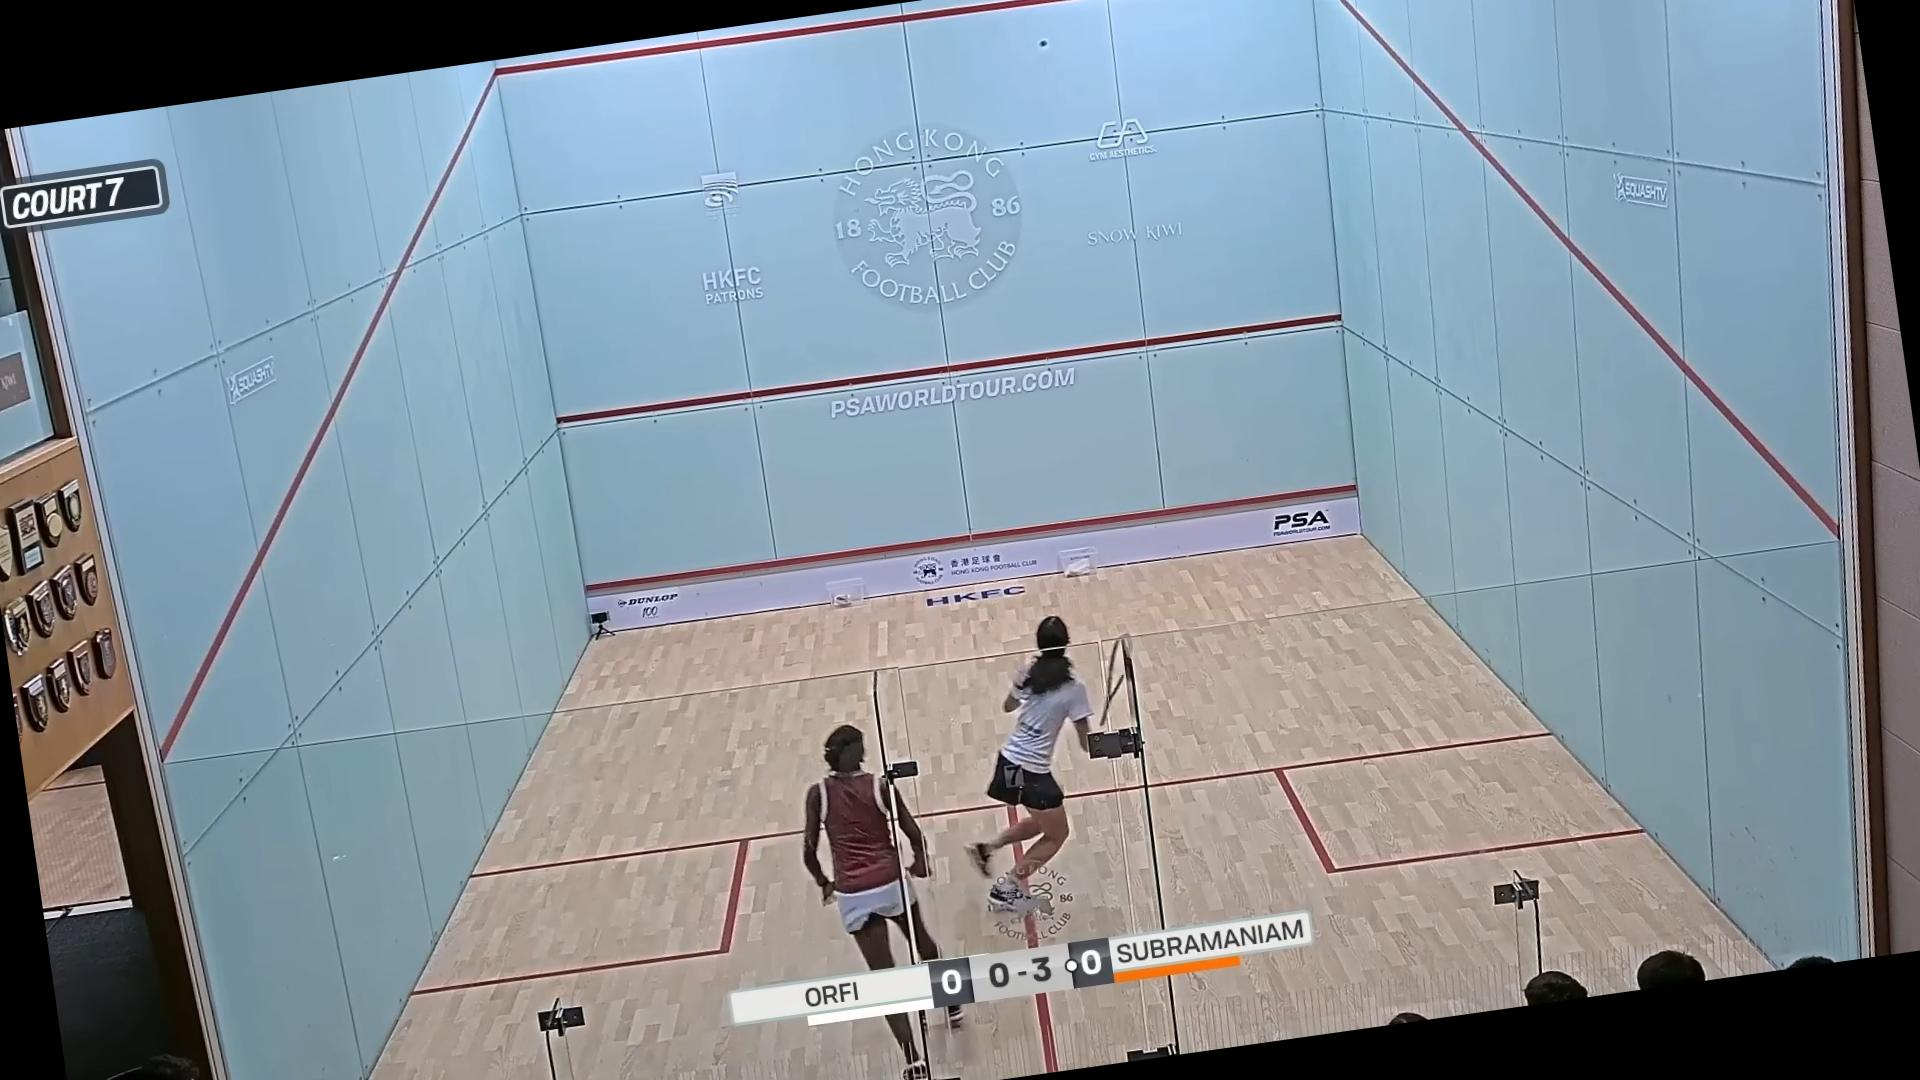Squash-Ball: (1027, 26, 1055, 58)
